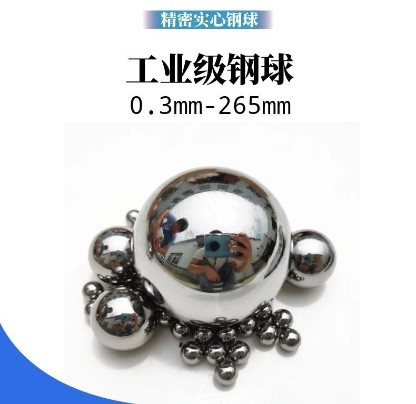ironball: (132, 166, 291, 328), (88, 285, 156, 351), (285, 229, 336, 289), (87, 225, 136, 285)
